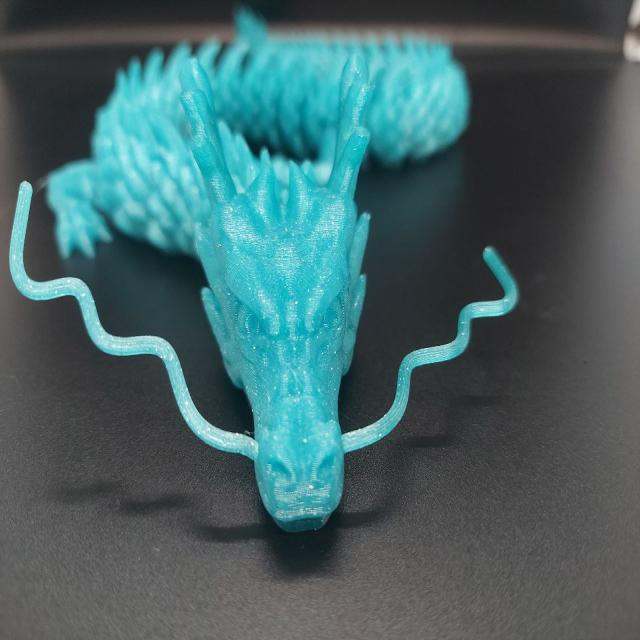Without deffect: (8, 10, 548, 540)
